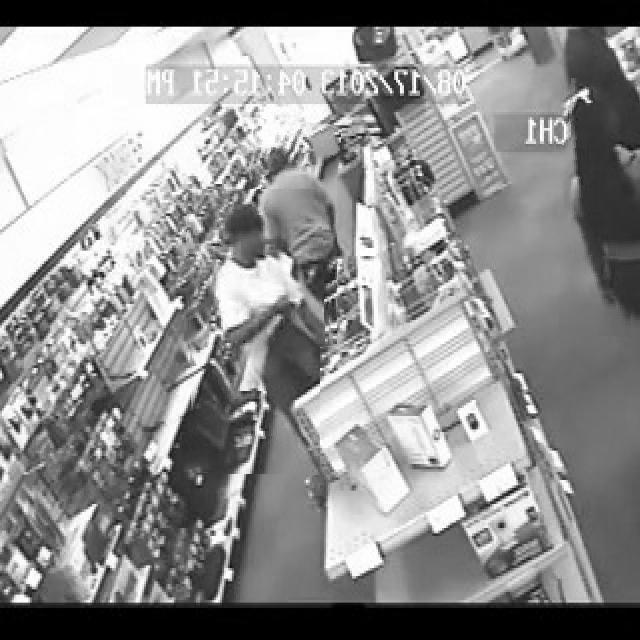Shoplifting: (186, 189, 320, 475)
normal: (239, 120, 337, 346), (562, 79, 640, 336)
